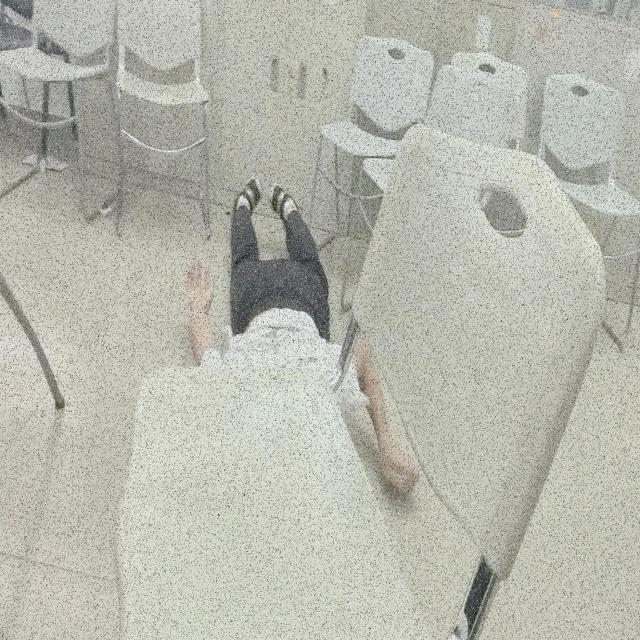fall: (180, 175, 420, 517)
